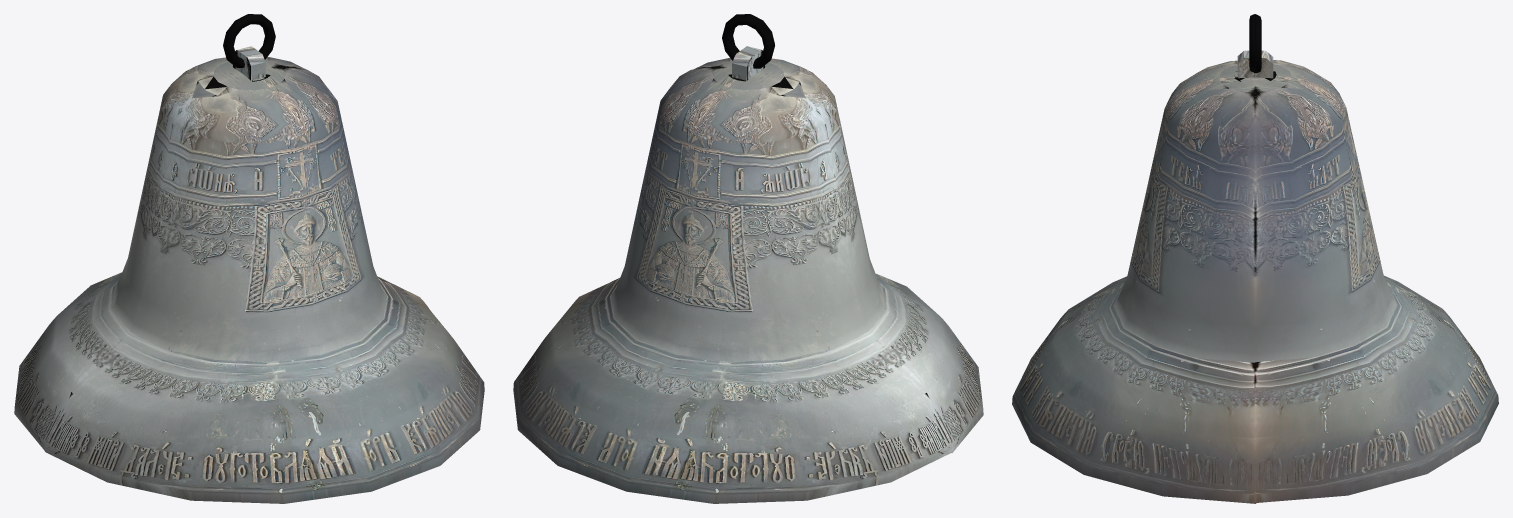
The model's file is BellKrut.fbx.
3 views of the same model, side by side, from view 1: azimuth 30°, elevation 25°; view 2: azimuth 150°, elevation 25°; view 3: azimuth 270°, elevation 25° (orthographic).
Parts seen in each view (by area): view 1: Colocol.002, Colocol.003; view 2: Colocol.003, Colocol.002; view 3: Colocol.003, Colocol.002.
Boxes of the visible parts, bbox=[...] form: Colocol.002: bbox=[45, 21, 484, 503]; Colocol.003: bbox=[14, 14, 428, 451]; Colocol.003: bbox=[513, 14, 953, 503]; Colocol.002: bbox=[695, 16, 983, 452]; Colocol.003: bbox=[1234, 14, 1498, 502]; Colocol.002: bbox=[1012, 16, 1273, 503].
Bounding box in the file's own units: 1.59 × 1.44 × 1.64.
4 materials, 4 textured.
